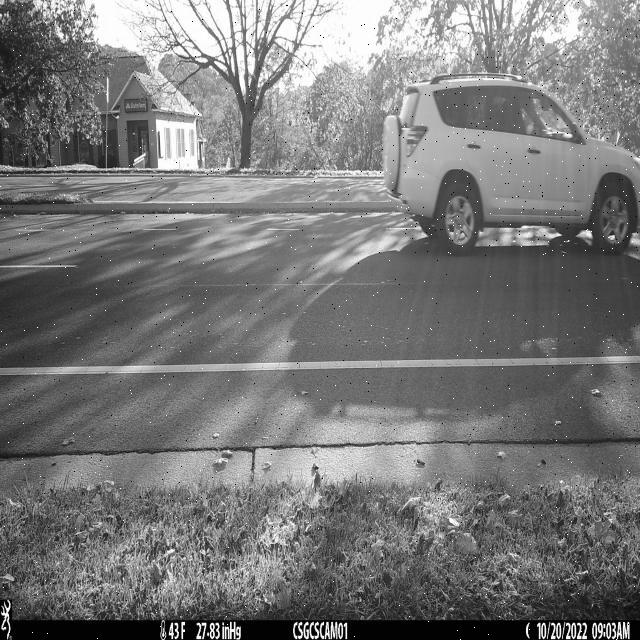SUV: (382, 73, 640, 256)
